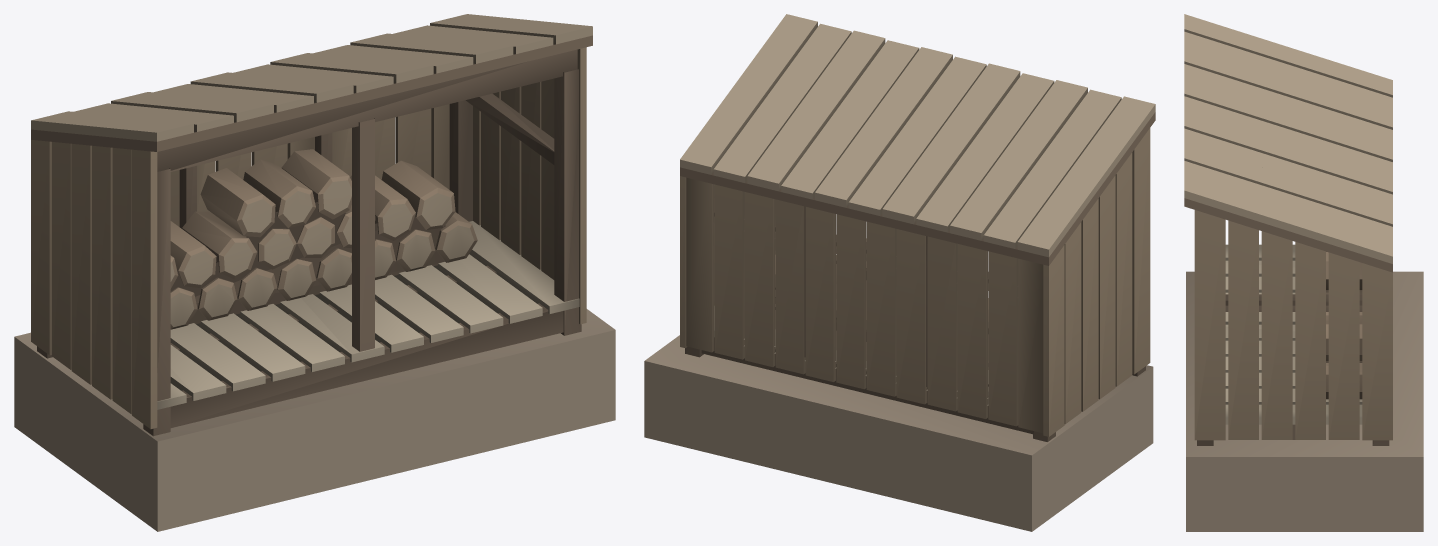
File: woodshed.glb
3 views of the same model, side by side, from view 1: azimuth 30°, elevation 25°; view 2: azimuth 150°, elevation 25°; view 3: azimuth 270°, elevation 25° (orthographic). The views are drawn at different scales.
Parts seen in each view (by area): view 1: woodshed; view 2: woodshed; view 3: woodshed.
Part boxes in pixels (x1=…): woodshed: x1=14, y1=14, x2=615, y2=531; woodshed: x1=644, y1=14, x2=1155, y2=531; woodshed: x1=1184, y1=14, x2=1423, y2=531.
Bounding box in the file's own units: 5.48 × 4.56 × 2.98.
